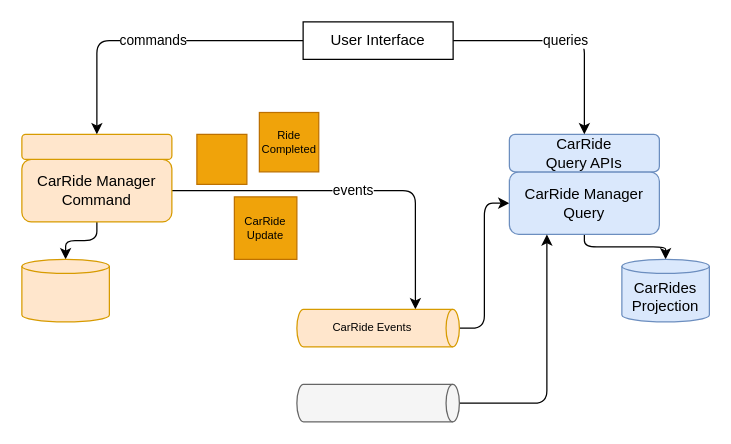
Some shapes in this 731 by 444 pixel diagram are drawn without their labels. Each missing label, with the centre of its shape:
"CarRide" goes at (x=65, y=290).
"CarRide Created" goes at (x=221, y=158).
"CarRide CRUD APIs" goes at (x=96, y=146).
"Customer Events" goes at (x=377, y=402).
